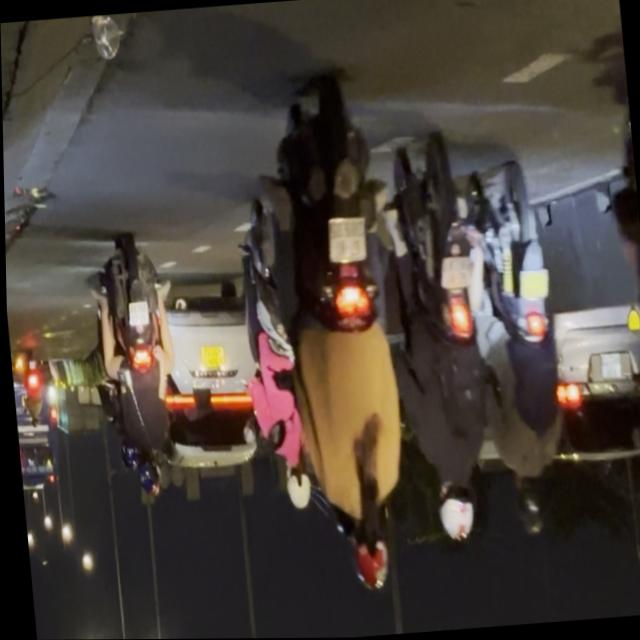helmet: (342, 507, 390, 592), (431, 472, 477, 544), (511, 473, 546, 538), (280, 460, 310, 511)
licenseplate: (235, 71, 421, 601), (372, 137, 503, 548), (456, 144, 577, 541), (228, 191, 315, 517), (595, 63, 640, 588)
nohelmet: (325, 217, 367, 264), (438, 257, 473, 291), (517, 270, 549, 301), (125, 301, 148, 326)
